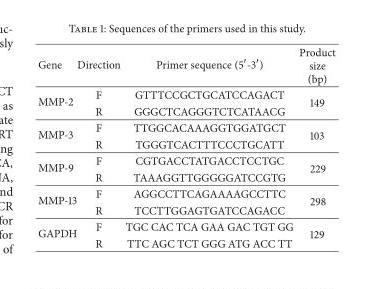table: (37, 36, 334, 250)
table column: (122, 36, 295, 250), (76, 36, 122, 250), (37, 36, 76, 250), (295, 36, 334, 250)
table column header: (37, 36, 334, 86)
table row: (37, 36, 334, 86), (37, 102, 334, 119), (37, 135, 334, 152), (37, 168, 334, 185), (37, 201, 334, 218), (37, 86, 334, 102), (37, 119, 334, 135), (37, 152, 334, 168), (37, 185, 334, 201), (37, 218, 334, 234), (37, 234, 334, 250)
table spanning cell: (37, 86, 76, 119), (295, 86, 334, 119), (37, 119, 76, 152), (295, 119, 334, 152), (37, 152, 76, 185), (295, 152, 334, 185), (37, 185, 76, 218), (295, 185, 334, 218), (37, 218, 76, 250), (295, 218, 334, 250)
